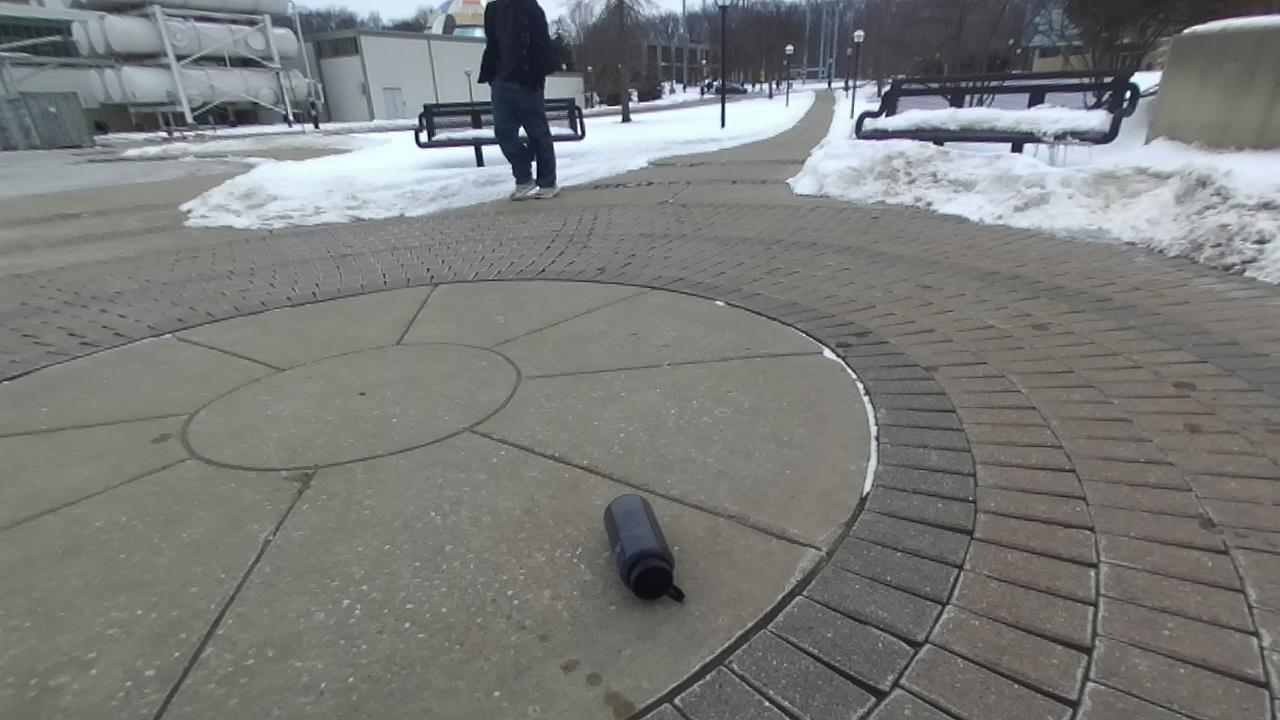bottle: (604, 494, 684, 602)
